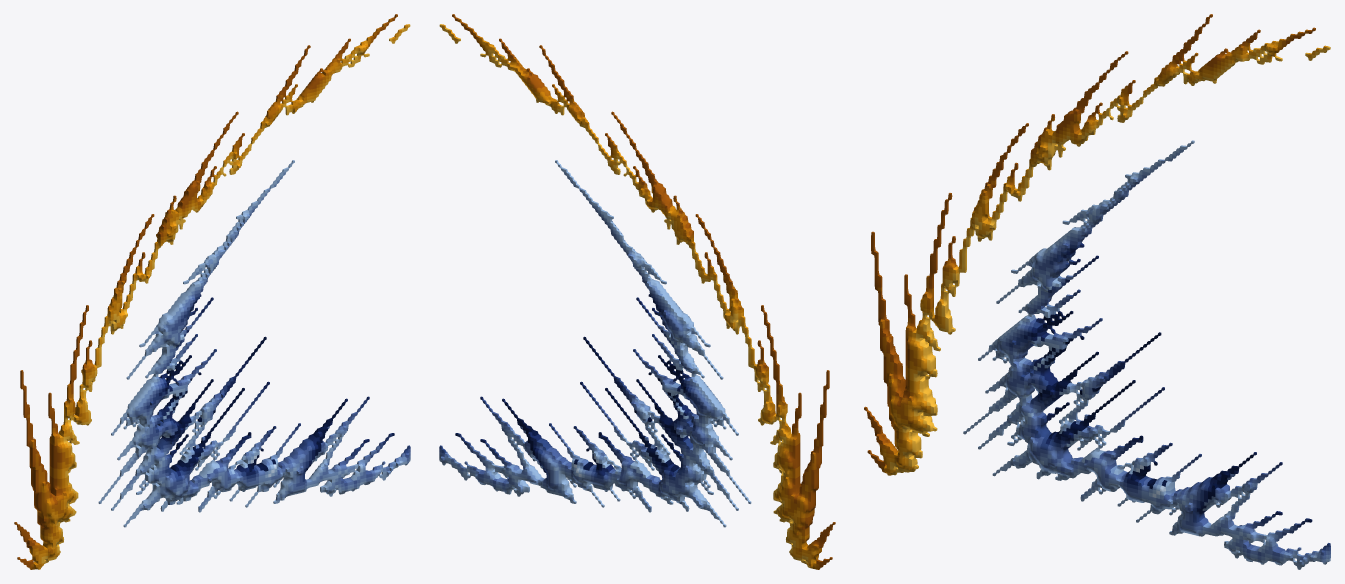
Rendered from Fight_018_3_10.obj.
The picture shows the model from 3 angles, left to right: view 1: azimuth 30°, elevation 25°; view 2: azimuth 150°, elevation 25°; view 3: azimuth 330°, elevation 25°; orthographic projection. The views are drawn at different scales.
Size of the model in its own units: 12.66 by 14.27 by 0.6.
1 material, 1 textured.
